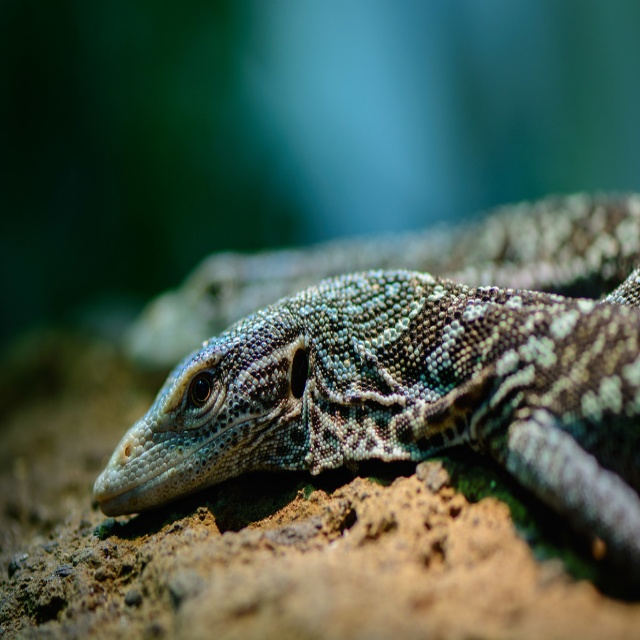Lizard: (92, 274, 637, 566)
